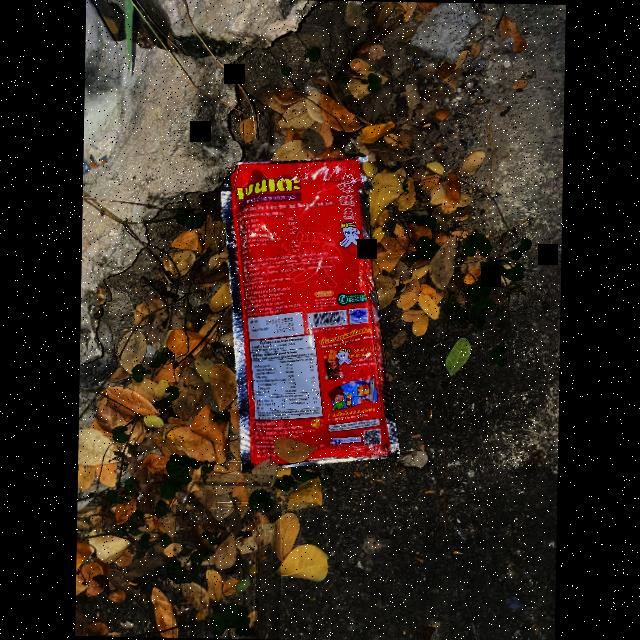snack_bag: (200, 132, 401, 477)
